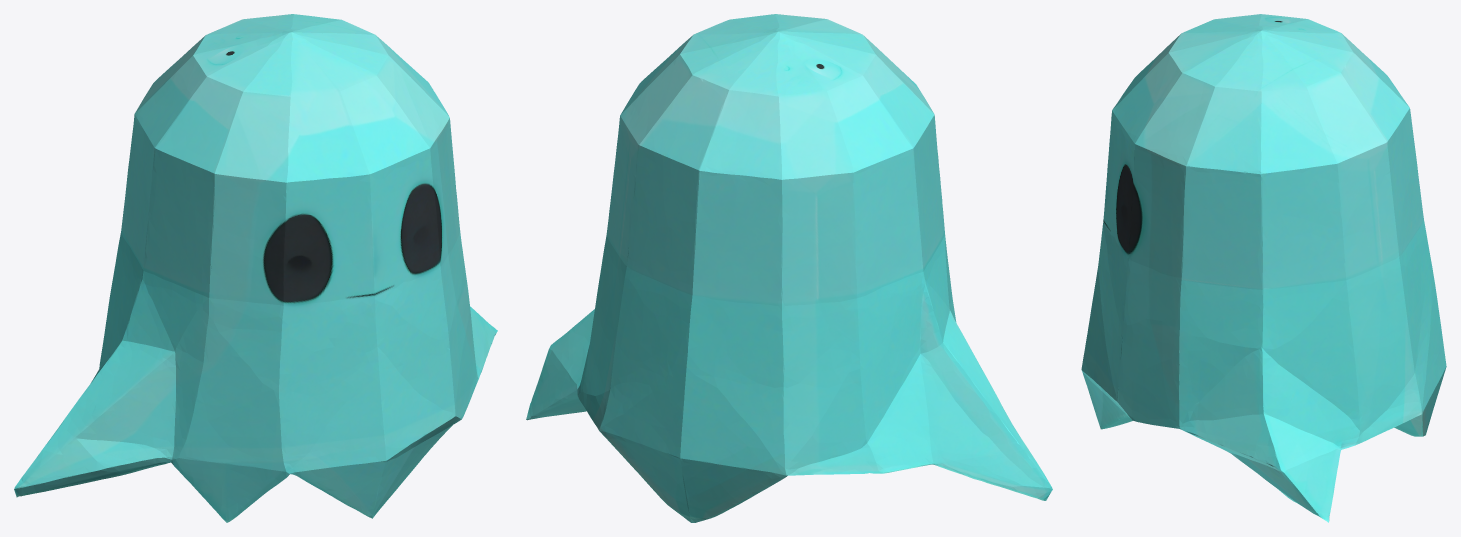
The model's file is Aqua_Phantom_0429054542_texture.fbx.
3 renders of one model, left to right at view 1: azimuth 30°, elevation 25°; view 2: azimuth 150°, elevation 25°; view 3: azimuth 270°, elevation 25°, orthographic. The views are drawn at different scales.
Visible parts, largest first — view 1: temp; view 2: temp; view 3: temp.
Part boxes in pixels (x1=…): temp: x1=14, y1=14, x2=497, y2=522; temp: x1=526, y1=14, x2=1052, y2=522; temp: x1=1081, y1=14, x2=1446, y2=522.
Bounding box in the file's own units: 199 × 165 × 135.
1 material, 1 textured.
